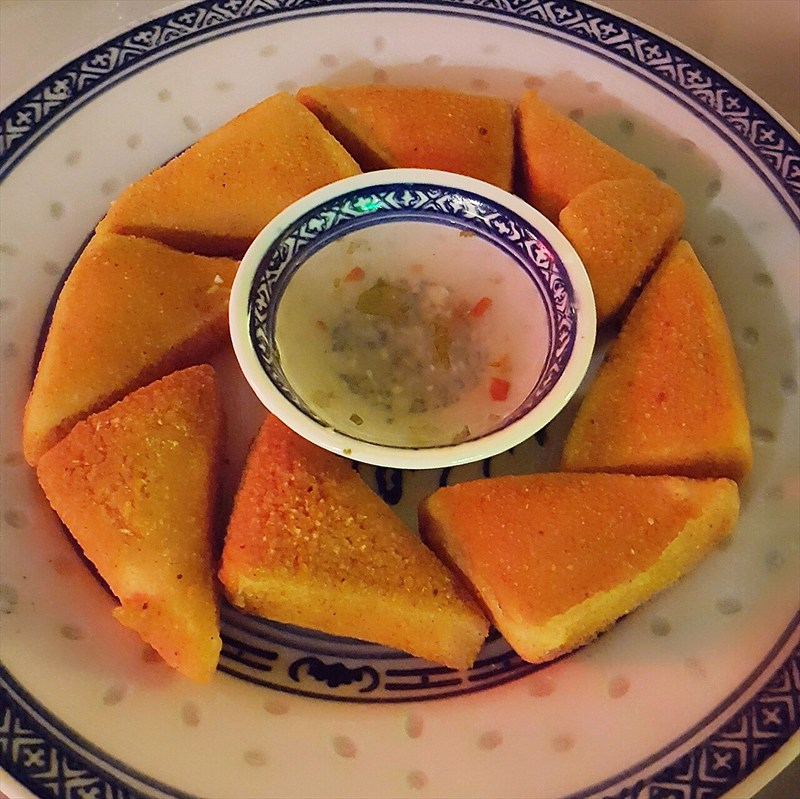Tahu Goreng: (42, 105, 693, 694)
